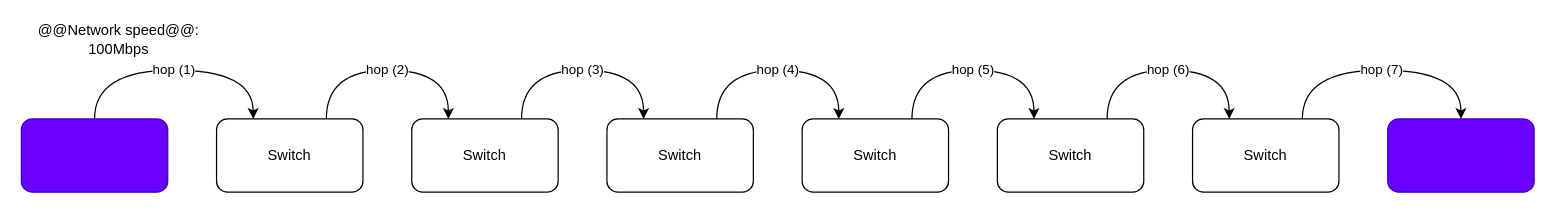
The diagram is 1556 pixels wide and 214 high, and some of its shapes have lost their labels. Here are the shapes that lost their labels. From the top down, the box of each, then its label:
(20, 118, 168, 192): Milan Talker
(1387, 118, 1534, 192): Milan Listener
